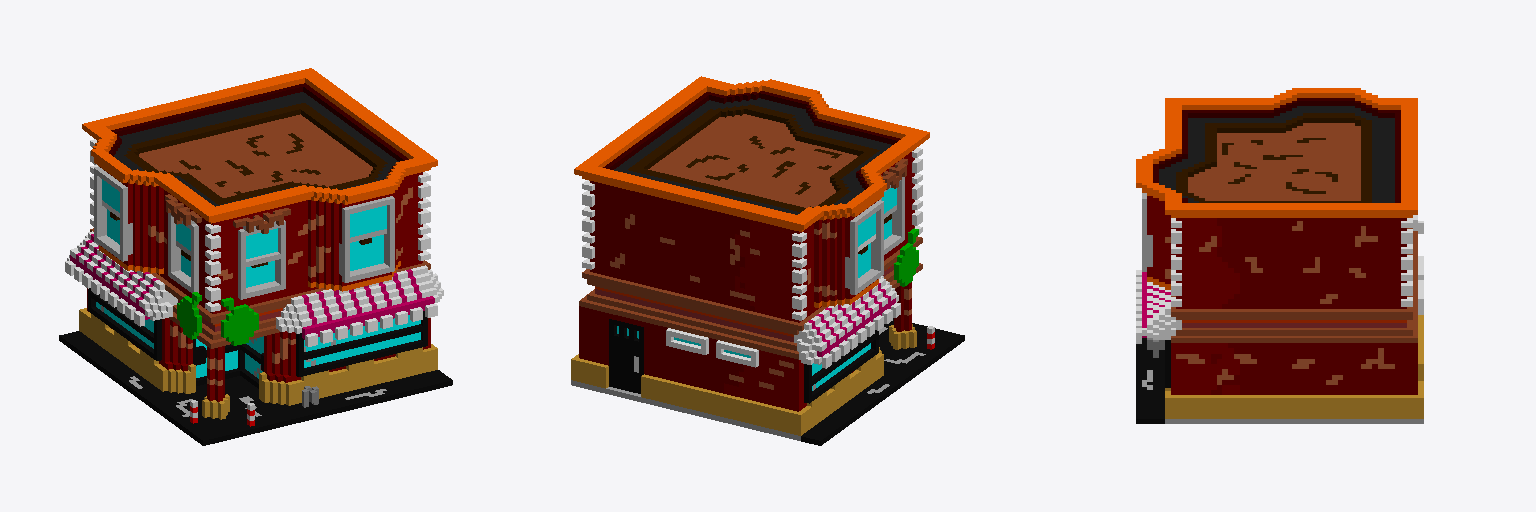
The picture shows the model from 3 angles: view 1: azimuth 30°, elevation 25°; view 2: azimuth 150°, elevation 25°; view 3: azimuth 270°, elevation 25°; orthographic projection.
Visible parts, largest first — view 1: object 1; view 2: object 1; view 3: object 1.
Boxes of the visible parts, box(x1,y1,x2,y2) form: object 1: box(59, 68, 452, 445); object 1: box(571, 76, 964, 445); object 1: box(1136, 88, 1423, 423).
Size of the model in its own units: 5 by 4.1 by 5.
1 materials, 1 textured.